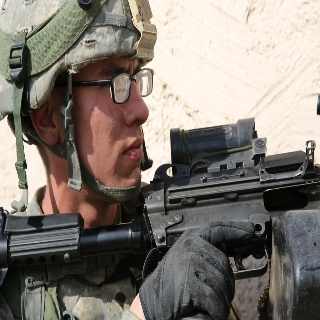rifle: (1, 115, 320, 283)
